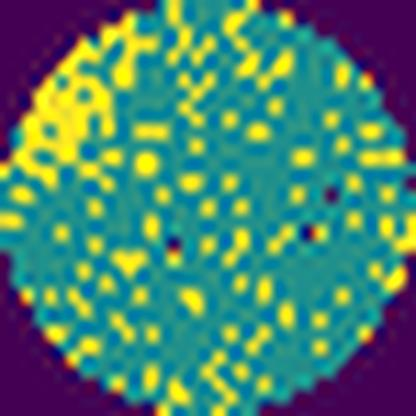Edge-Loc: (0, 4, 164, 196), (372, 206, 415, 254)
